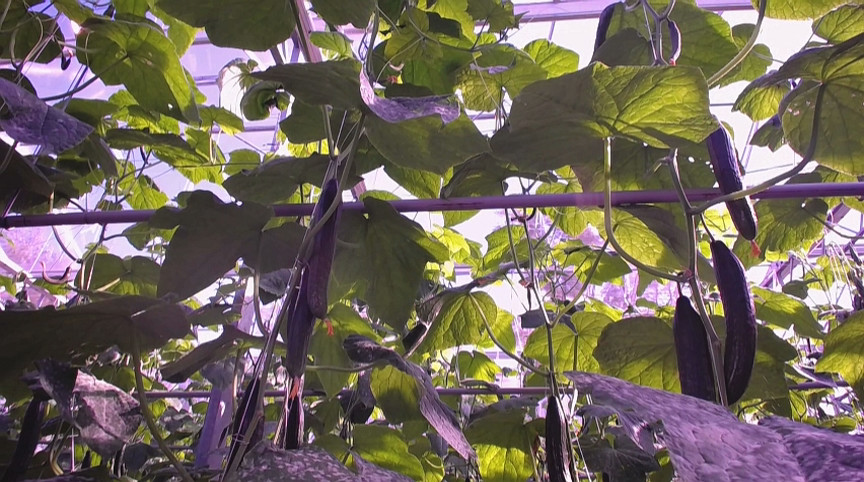cucumber: (707, 241, 757, 405), (708, 128, 759, 240), (671, 296, 719, 402), (308, 179, 341, 319), (8, 397, 50, 478), (285, 275, 316, 379), (231, 380, 267, 460), (544, 398, 572, 481)
